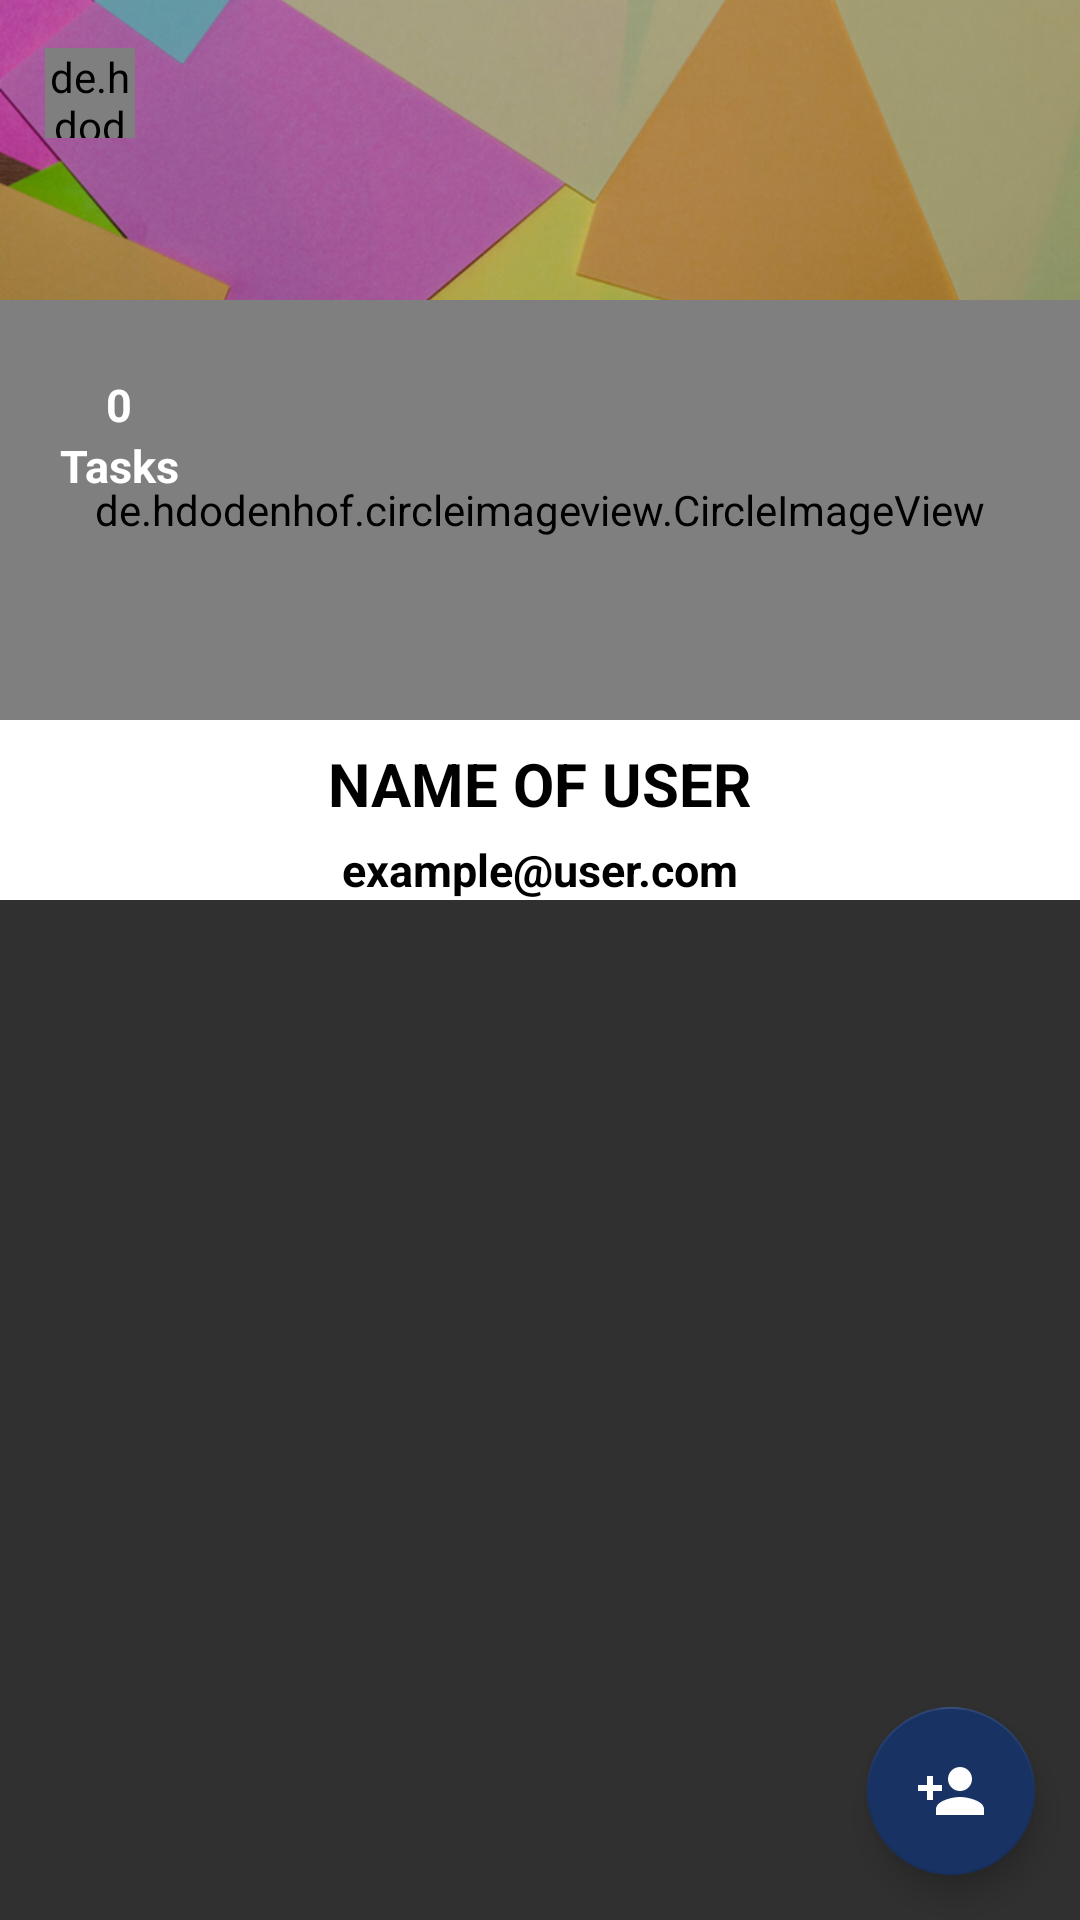

Icon bounding boxes for this 1080×1920 phone screenshot, format {"x1": x1, "y1": y1, "x2": x2, "y2": y2}:
add person: {"x1": 867, "y1": 1707, "x2": 1035, "y2": 1875}
